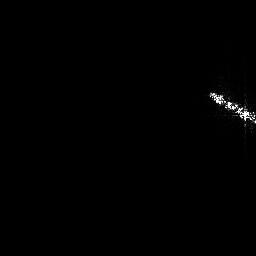ship: (207, 89, 256, 130)
